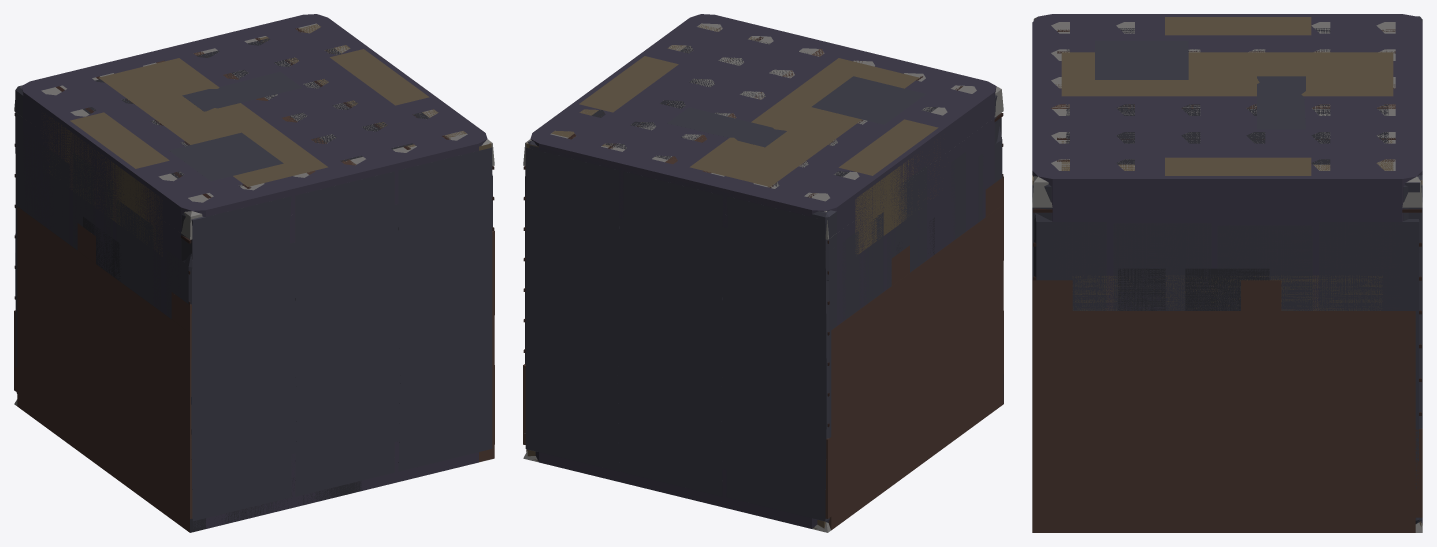
The model's file is crypt.glb.
3 views of the same model, side by side, from view 1: azimuth 30°, elevation 25°; view 2: azimuth 150°, elevation 25°; view 3: azimuth 270°, elevation 25° (orthographic). The views are drawn at different scales.
Visible parts, largest first — view 1: architecture.crypt.beam:visual-base, architecture.crypt.pool:visual-base, architecture.crypt.doorway:state-door, architecture.crypt.floor-section:visual-base, architecture.crypt.roof:visual-base, architecture.crypt.doorway:visual-base, architecture.crypt.railing:visual-base, environment.crypt.anchor:visual-base, architecture.crypt.column:visual-base, architecture.crypt.trapdoor:state-door, architecture.crypt.fence:visual-base, architecture.crypt.wall-straight:visual-base (+3 smaller); view 2: architecture.crypt.beam:visual-base, architecture.crypt.pool:visual-base, architecture.crypt.doorway:state-door, architecture.crypt.floor-section:visual-base, architecture.crypt.roof:visual-base, architecture.crypt.doorway:visual-base, environment.crypt.anchor:visual-base, architecture.crypt.railing:visual-base, architecture.crypt.column:visual-base, architecture.crypt.stairs:visual-base, architecture.crypt.trapdoor:state-door, architecture.crypt.trapdoor:visual-base; view 3: architecture.crypt.doorway:state-door, architecture.crypt.pool:visual-base, architecture.crypt.floor-section:visual-base, architecture.crypt.roof:visual-base, architecture.crypt.railing:visual-base, architecture.crypt.doorway:visual-base, environment.crypt.anchor:visual-base, architecture.crypt.fence:visual-base, architecture.crypt.trapdoor:state-door, architecture.crypt.column:visual-base, architecture.crypt.beam:visual-base, architecture.crypt.trapdoor:visual-base (+2 smaller).
Part boxes in pixels (box(x1,y1,x2,y2)): architecture.crypt.beam:visual-base: box(15, 124, 492, 521); architecture.crypt.pool:visual-base: box(21, 14, 487, 528); architecture.crypt.doorway:state-door: box(17, 51, 356, 532); architecture.crypt.floor-section:visual-base: box(15, 71, 492, 454); architecture.crypt.roof:visual-base: box(42, 58, 327, 256); architecture.crypt.doorway:visual-base: box(70, 49, 429, 168); architecture.crypt.railing:visual-base: box(169, 132, 361, 532); environment.crypt.anchor:visual-base: box(14, 23, 494, 462); architecture.crypt.column:visual-base: box(83, 38, 459, 524); architecture.crypt.trapdoor:state-door: box(77, 223, 494, 389); architecture.crypt.fence:visual-base: box(83, 217, 120, 281); architecture.crypt.wall-straight:visual-base: box(259, 24, 491, 150); architecture.crypt.beam:visual-base: box(525, 95, 1001, 522); architecture.crypt.pool:visual-base: box(530, 14, 996, 528); architecture.crypt.doorway:state-door: box(666, 49, 1003, 529); architecture.crypt.floor-section:visual-base: box(525, 107, 1002, 469); architecture.crypt.roof:visual-base: box(690, 58, 940, 254); architecture.crypt.doorway:visual-base: box(527, 56, 938, 528); environment.crypt.anchor:visual-base: box(523, 23, 1003, 532); architecture.crypt.railing:visual-base: box(812, 76, 1003, 403); architecture.crypt.column:visual-base: box(547, 39, 937, 525); architecture.crypt.stairs:visual-base: box(525, 140, 836, 280); architecture.crypt.trapdoor:state-door: box(891, 176, 1003, 285); architecture.crypt.trapdoor:visual-base: box(523, 311, 1003, 518); architecture.crypt.doorway:state-door: box(1032, 84, 1415, 532); architecture.crypt.pool:visual-base: box(1032, 14, 1422, 522); architecture.crypt.floor-section:visual-base: box(1034, 76, 1421, 488); architecture.crypt.roof:visual-base: box(1061, 52, 1393, 310); architecture.crypt.railing:visual-base: box(1095, 40, 1188, 310); architecture.crypt.doorway:visual-base: box(1165, 17, 1422, 526); environment.crypt.anchor:visual-base: box(1032, 17, 1422, 532); architecture.crypt.fence:visual-base: box(1185, 268, 1269, 310); architecture.crypt.trapdoor:state-door: box(1032, 280, 1281, 310); architecture.crypt.column:visual-base: box(1066, 28, 1388, 164); architecture.crypt.beam:visual-base: box(1032, 184, 1422, 523); architecture.crypt.trapdoor:visual-base: box(1415, 428, 1422, 517).
Size of what is drawn, in the model's own units: 1 by 1 by 1.
